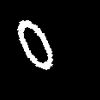chain: (17, 20, 52, 69)
